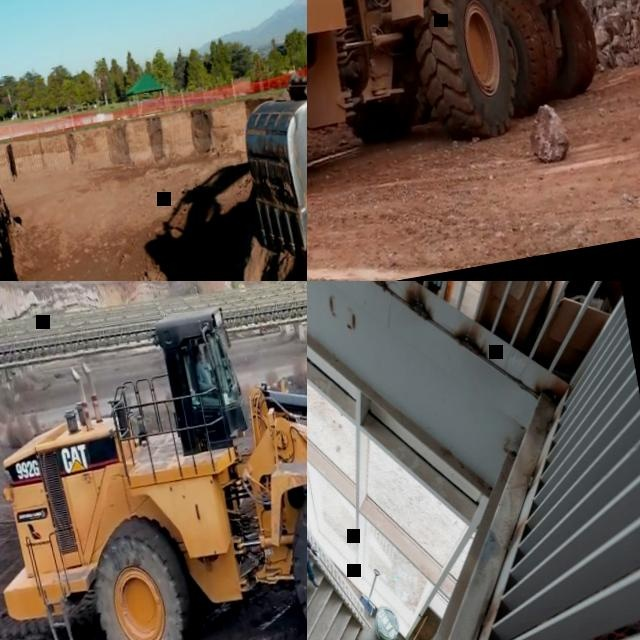NO-Hardhat: (193, 346, 202, 357)
NO-Mask: (198, 355, 204, 361)
NO-Safety Vest: (196, 361, 212, 389)
Person: (193, 344, 217, 394), (307, 524, 324, 592)
machinery: (0, 281, 307, 640), (307, 0, 599, 244), (386, 0, 640, 134), (207, 0, 307, 264)
